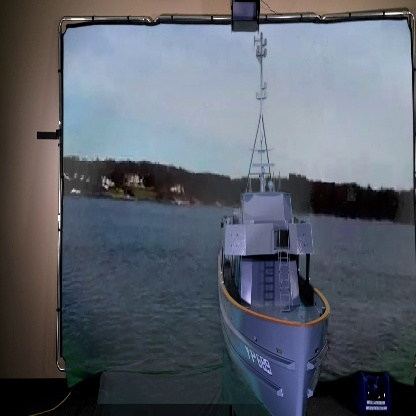YP689: (212, 44, 332, 416)
